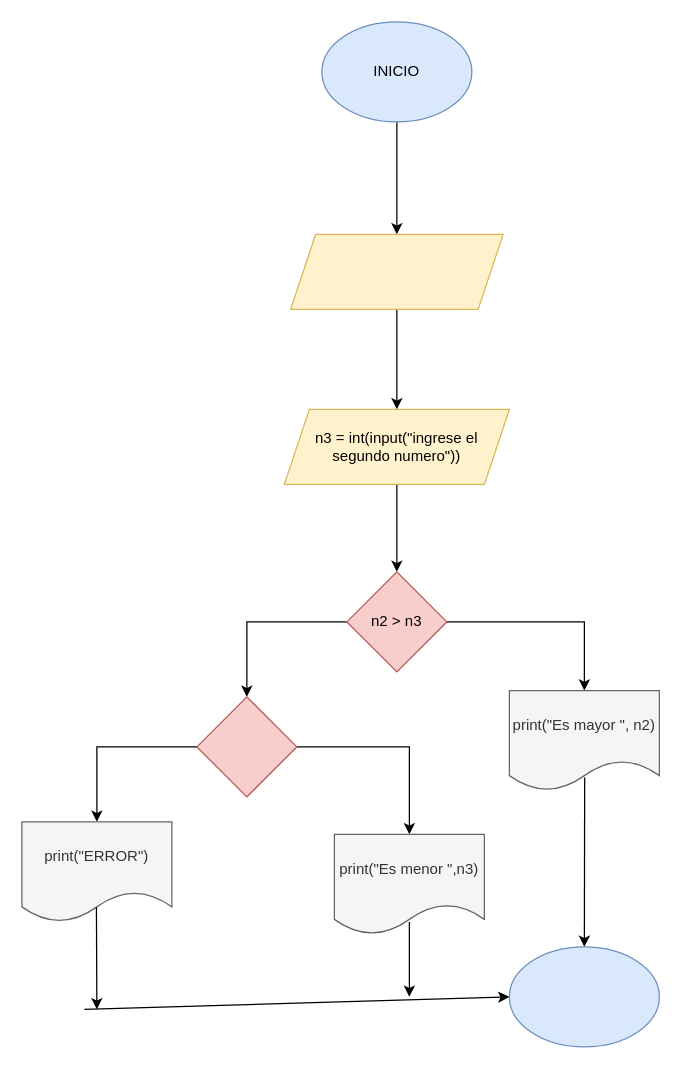
This 681x1069 diagram has some shape labels left out. The centre of each missing label's shape, as x and y in pixels:
FIN: (x=583, y=996)
n2 = int(input("ingrese un numero")): (x=396, y=271)
n3 > n2: (x=246, y=746)
